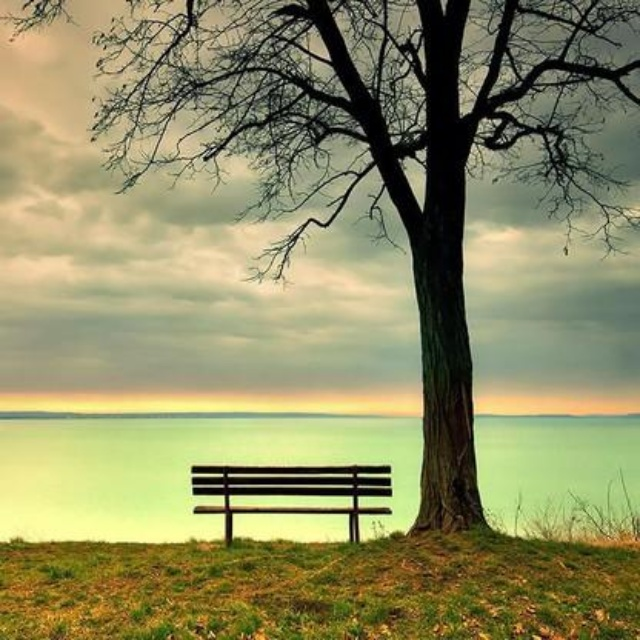obstacle: (178, 455, 402, 548)
